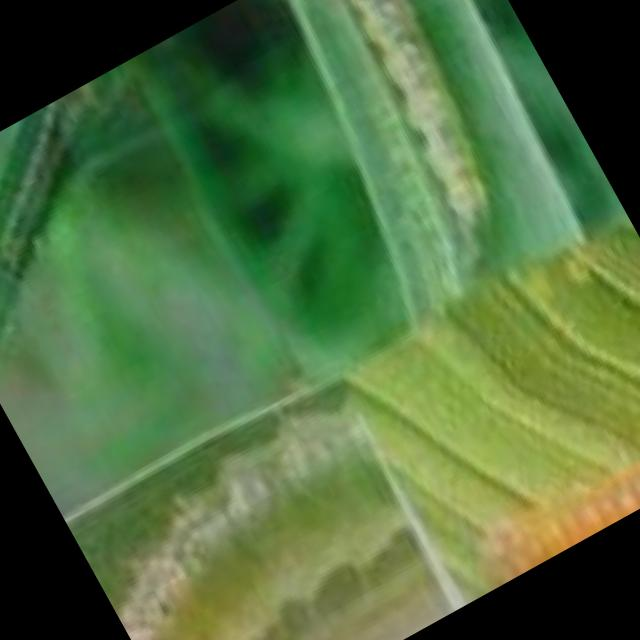leaf-folder: (247, 0, 557, 322), (76, 394, 460, 640), (426, 346, 640, 597), (0, 75, 175, 327)
